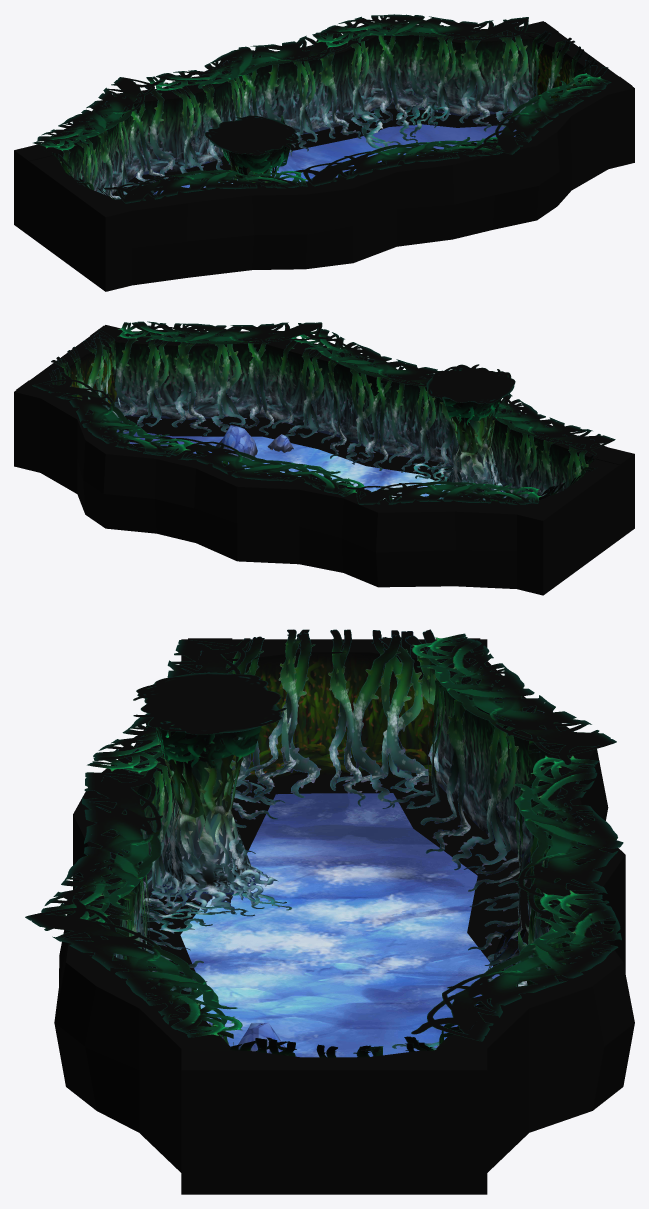
File: Dungeon_012_Road_002_Item2.fbx
3 renders of one model, top to bottom at view 1: azimuth 30°, elevation 25°; view 2: azimuth 150°, elevation 25°; view 3: azimuth 270°, elevation 25°, orthographic. The views are drawn at different scales.
Visible parts, largest first — view 1: Dan1, Dungeon_021_Tsuta_002, Dungeon_021_Tsuta_001, un_021_Door_002 (×2), Dan2, Dungeon_021_Object_010, Dan1_shadow, un_021_Door_002_Object1, Dungeon_021_Tsuta_003; view 2: Dan1, Dungeon_021_Tsuta_002, Dungeon_021_Tsuta_001, un_021_Door_002 (×2), Dan1_shadow, Dan2, Dungeon_021_Object_010, Dungeon_021_Object_011, un_021_Door_002_Object1, Dungeon_011_Object_012, Dungeon_021_Tsuta_003; view 3: Dan1, Dan2, Dungeon_021_Tsuta_002, un_021_Door_002 (×2), un_021_Door_002_Object1 (×2), Dungeon_021_Tsuta_001, Dungeon_021_Object_011, Dan1_shadow, Dungeon_021_Object_010, Dungeon_021_Tsuta_003, Dun_011_Door_002_shadow, Dungeon_011_Object_011.
Boxes of the visible parts, bbox=[...] form: Dan1: bbox=[14, 21, 634, 291]; Dungeon_021_Tsuta_002: bbox=[33, 14, 611, 203]; Dungeon_021_Tsuta_001: bbox=[53, 22, 587, 199]; un_021_Door_002 (×2): bbox=[16, 22, 632, 280]; Dan2: bbox=[153, 124, 516, 194]; Dungeon_021_Object_010: bbox=[204, 115, 298, 175]; Dan1_shadow: bbox=[112, 109, 536, 196]; un_021_Door_002_Object1: bbox=[505, 30, 608, 118]; Dungeon_021_Tsuta_003: bbox=[361, 102, 450, 155]; Dan1: bbox=[14, 325, 634, 595]; Dungeon_021_Tsuta_002: bbox=[32, 321, 615, 504]; Dungeon_021_Tsuta_001: bbox=[50, 328, 594, 503]; un_021_Door_002 (×2): bbox=[16, 325, 632, 583]; Dan1_shadow: bbox=[120, 416, 508, 501]; Dan2: bbox=[116, 429, 443, 499]; Dungeon_021_Object_010: bbox=[426, 364, 515, 425]; Dungeon_021_Object_011: bbox=[440, 402, 507, 500]; un_021_Door_002_Object1: bbox=[49, 329, 129, 432]; Dungeon_011_Object_012: bbox=[215, 425, 257, 460]; Dungeon_021_Tsuta_003: bbox=[413, 462, 453, 499]; Dan1: bbox=[54, 639, 634, 1194]; Dan2: bbox=[180, 793, 499, 1057]; Dungeon_021_Tsuta_002: bbox=[25, 633, 623, 1041]; un_021_Door_002 (×2): bbox=[188, 638, 480, 1194]; un_021_Door_002_Object1 (×2): bbox=[229, 629, 446, 1057]; Dungeon_021_Tsuta_001: bbox=[87, 650, 596, 1045]; Dungeon_021_Object_011: bbox=[152, 728, 278, 914]; Dan1_shadow: bbox=[141, 776, 531, 994]; Dungeon_021_Object_010: bbox=[133, 672, 286, 769]; Dungeon_021_Tsuta_003: bbox=[141, 891, 439, 1049]; Dun_011_Door_002_shadow: bbox=[276, 774, 392, 794]; Dungeon_011_Object_011: bbox=[488, 918, 539, 986].
Size of what is drawn, in the model's own units: 15 by 3.03 by 9.14.
